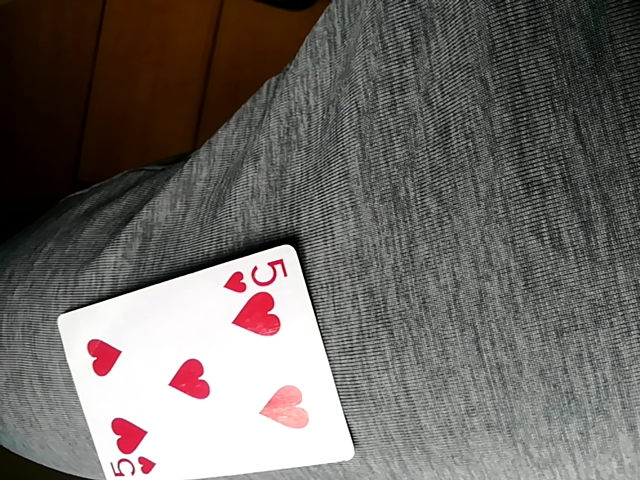hx 5: (54, 243, 350, 479)
